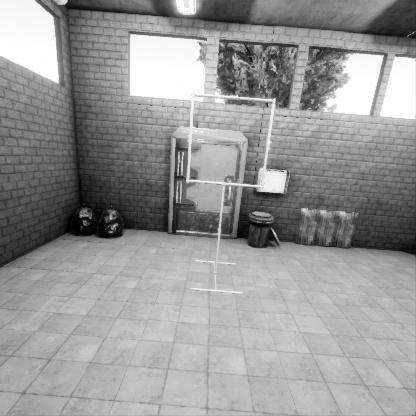gate: (186, 230, 281, 328)
